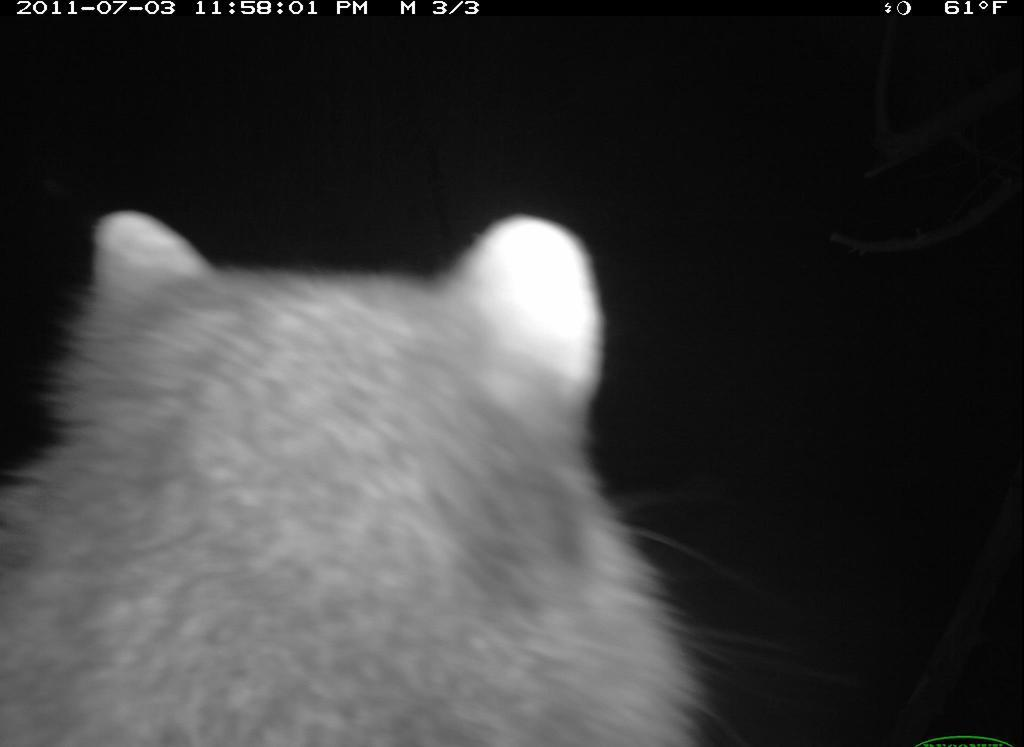raccoon: (6, 200, 742, 745)
